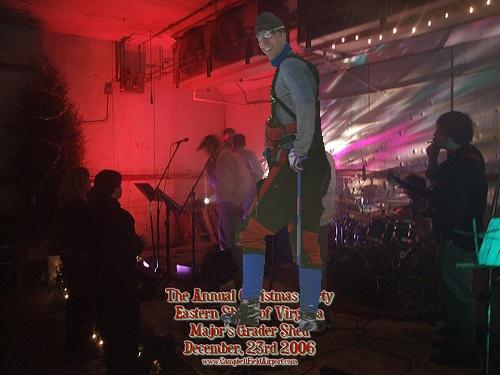tampered: (222, 13, 331, 331)
